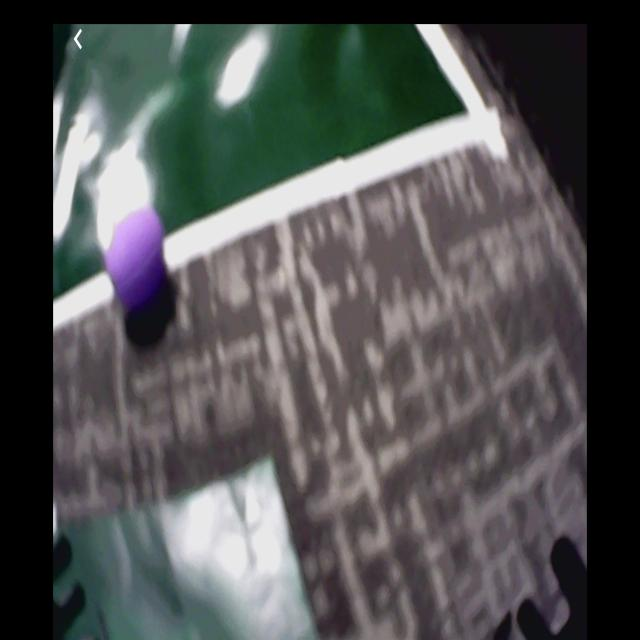ball: (106, 208, 165, 309)
